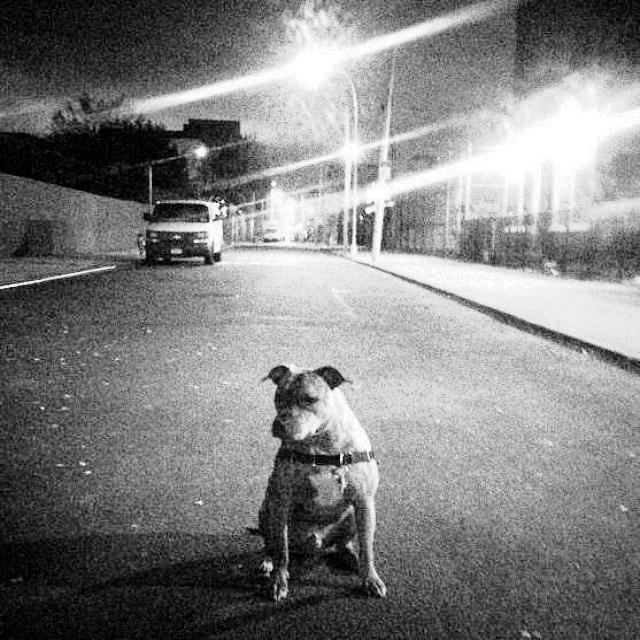Car: (121, 188, 249, 283)
Dog: (217, 367, 401, 611)
